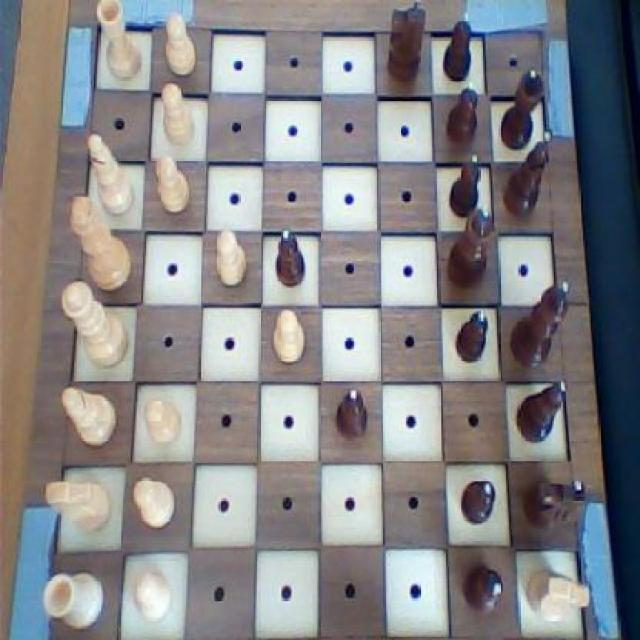bishop: (503, 128, 555, 223), (509, 375, 572, 444)
black-bishop: (508, 278, 574, 371)
black-king: (520, 468, 589, 540), (382, 0, 428, 88)
black-knight: (444, 78, 484, 150), (460, 560, 508, 619), (446, 151, 487, 220), (440, 8, 475, 84), (329, 386, 373, 446), (452, 306, 493, 368), (456, 474, 498, 528), (272, 226, 307, 289)
black-pawn: (443, 199, 498, 293)
black-queen: (495, 65, 544, 152)
black-rook: (83, 129, 139, 217), (59, 383, 122, 451)
white-bishop: (66, 191, 136, 292)
white-king: (522, 562, 596, 626), (44, 476, 112, 536)
white-knight: (157, 80, 201, 152), (152, 150, 195, 222), (132, 476, 180, 540), (140, 389, 187, 453), (131, 566, 176, 628), (268, 306, 309, 371), (211, 225, 250, 293), (162, 12, 200, 80)
white-pawn: (57, 278, 131, 376)
white-queen: (38, 563, 107, 630), (91, 0, 146, 83)
